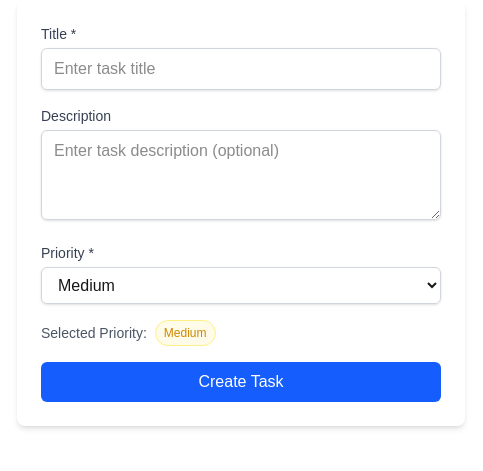
Scenario: TaskForm › clears errors when user starts typing
This screenshot has width=483, height=471.
Submit the form
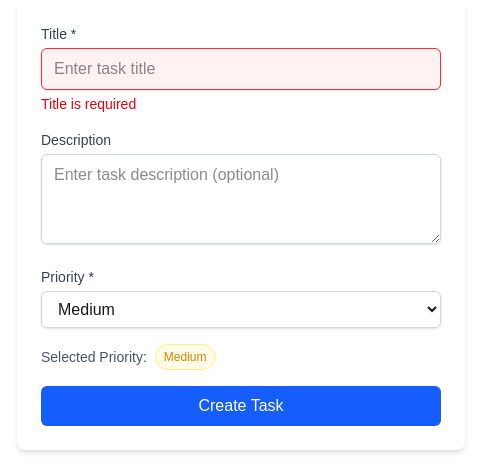
Expected: the text "Title is required" is shown, [41,96,136,112]
Type "T" into the field labelled "Title *".
click(241, 69); type("T")  # box [41,48,441,90]
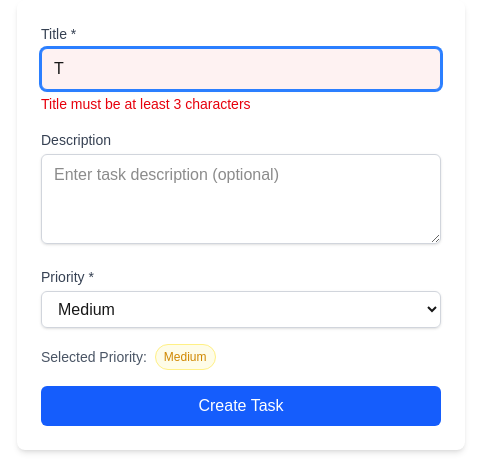
Expected: the text "Title is required" is gone
